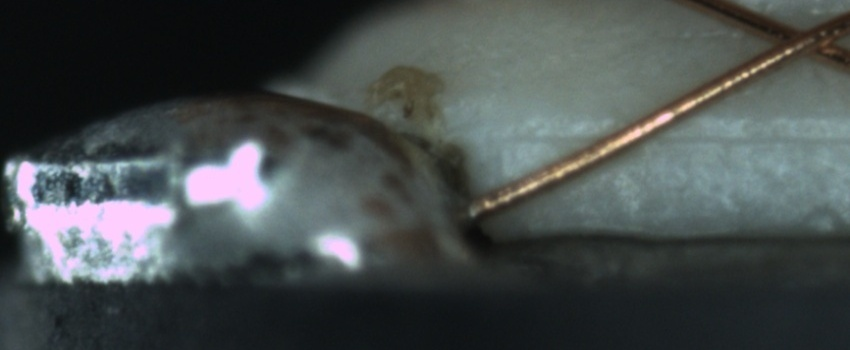CL: (747, 7, 846, 70)
DL: (503, 104, 850, 169)
